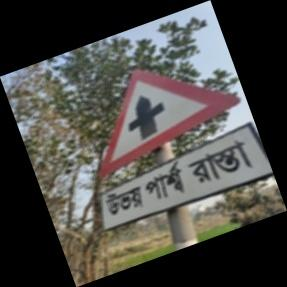Crossroad: (96, 67, 264, 238)
